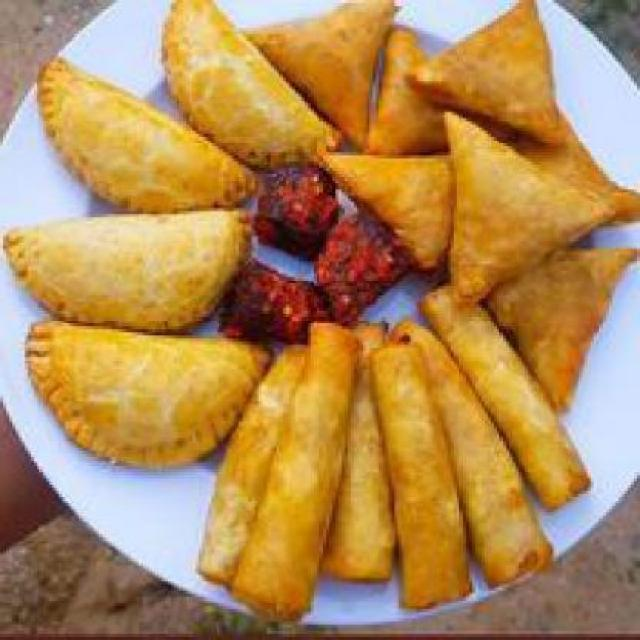spring rolls: (206, 283, 556, 619)
